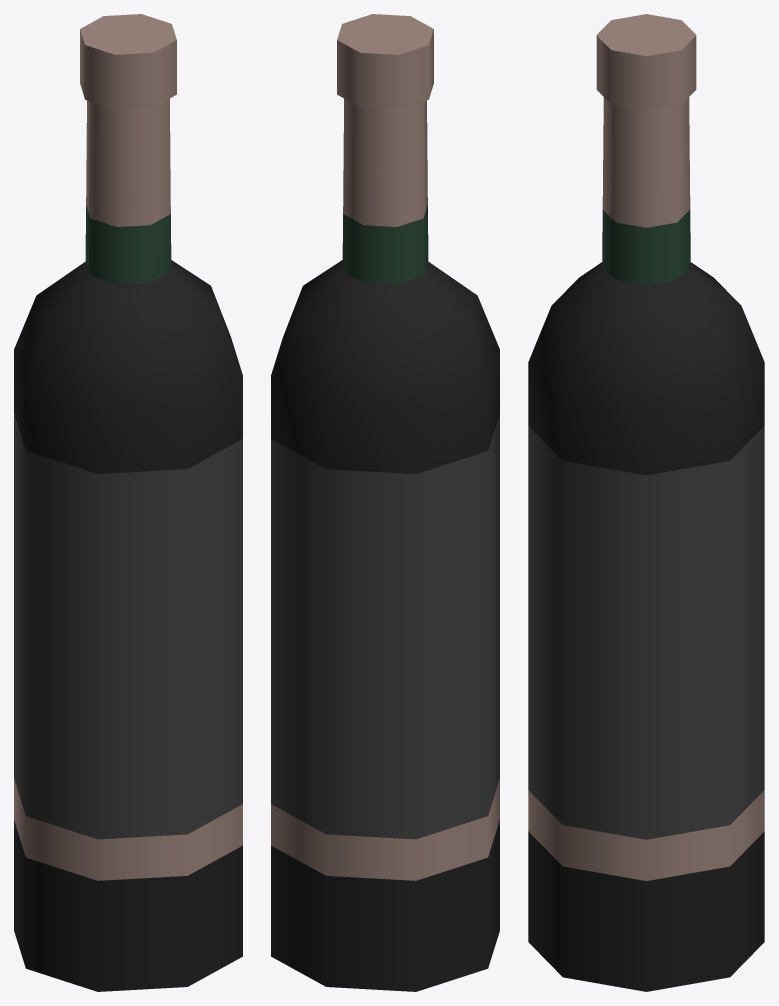
File: prop_089.fbx
The picture shows the model from 3 angles, left to right: view 1: azimuth 30°, elevation 25°; view 2: azimuth 150°, elevation 25°; view 3: azimuth 270°, elevation 25°; orthographic projection.
Visible parts, largest first — view 1: prop_089; view 2: prop_089; view 3: prop_089.
Boxes of the visible parts, bbox=[...] form: prop_089: bbox=[14, 14, 242, 991]; prop_089: bbox=[271, 14, 499, 991]; prop_089: bbox=[528, 14, 764, 991].
Size of the model in its own units: 10.6 by 10.6 by 44.85.
